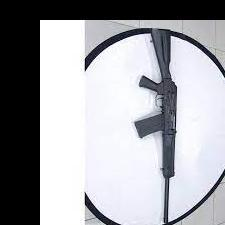larga: (133, 29, 178, 225)
